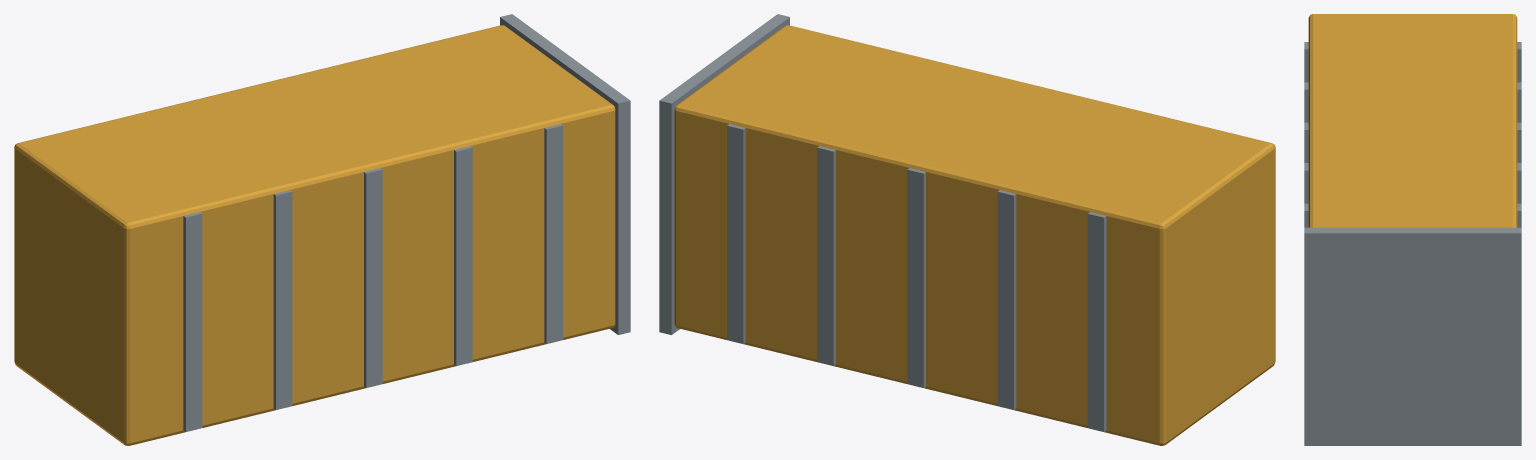
Rendered from container_2.glb.
3 renders of one model, left to right at view 1: azimuth 30°, elevation 25°; view 2: azimuth 150°, elevation 25°; view 3: azimuth 270°, elevation 25°, orthographic. The views are drawn at different scales.
Visible parts, largest first — view 1: Cube; view 2: Cube; view 3: Cube.
Boxes of the visible parts, x1,y1,x2,y2 form: Cube: (14,14,630,445); Cube: (659,14,1275,445); Cube: (1304,14,1521,445).
Size of the model in its own units: 6.12 by 2.7 by 2.5.
